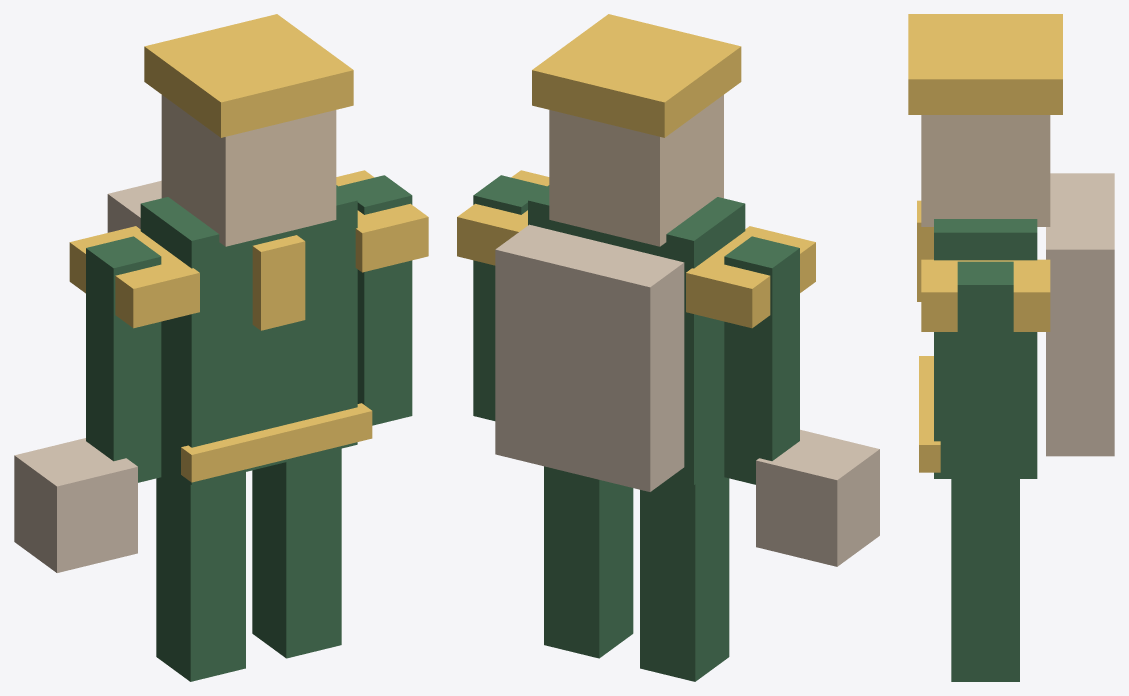
The model's file is 18_varren_glassroot_specialist_from.glb.
The picture shows the model from 3 angles, left to right: view 1: azimuth 30°, elevation 25°; view 2: azimuth 150°, elevation 25°; view 3: azimuth 270°, elevation 25°; orthographic projection.
Visible parts, largest first — view 1: Varren Glassroot, Specialist from; view 2: Varren Glassroot, Specialist from; view 3: Varren Glassroot, Specialist from.
Part boxes in pixels (box(x1,y1,x2,y2)): Varren Glassroot, Specialist from: box(14, 14, 428, 681); Varren Glassroot, Specialist from: box(457, 14, 879, 681); Varren Glassroot, Specialist from: box(908, 14, 1114, 681).
Bounding box in the file's own units: 0.9544 × 1.47 × 0.4604.
